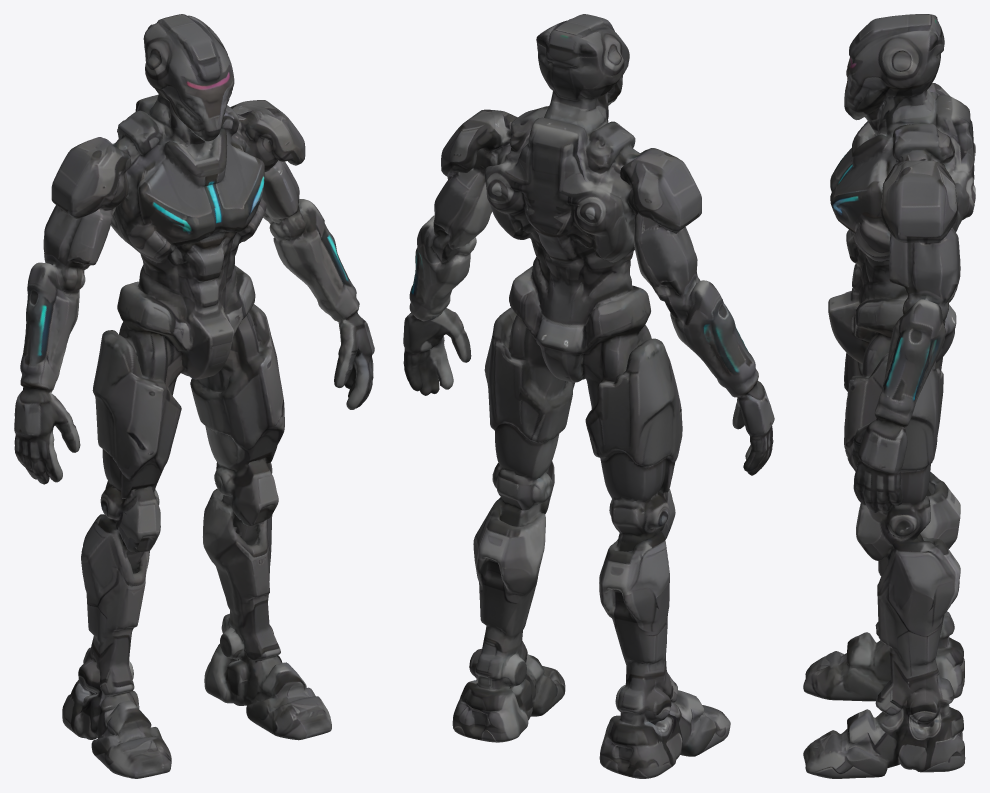
File: MechaRobot.fbx
3 renders of one model, left to right at view 1: azimuth 30°, elevation 25°; view 2: azimuth 150°, elevation 25°; view 3: azimuth 270°, elevation 25°, orthographic. The views are drawn at different scales.
Parts seen in each view (by area): view 1: tripo_node_1ef61685; view 2: tripo_node_1ef61685; view 3: tripo_node_1ef61685.
Part boxes in pixels (x1,y1,x2,y2): tripo_node_1ef61685: (14, 14, 374, 778); tripo_node_1ef61685: (403, 14, 774, 778); tripo_node_1ef61685: (803, 14, 975, 778).
Bounding box in the file's own units: 0.527 × 1 × 0.2201.
